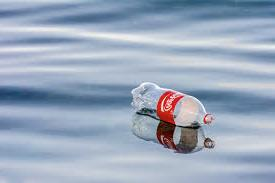Plastic: (108, 71, 219, 132)
